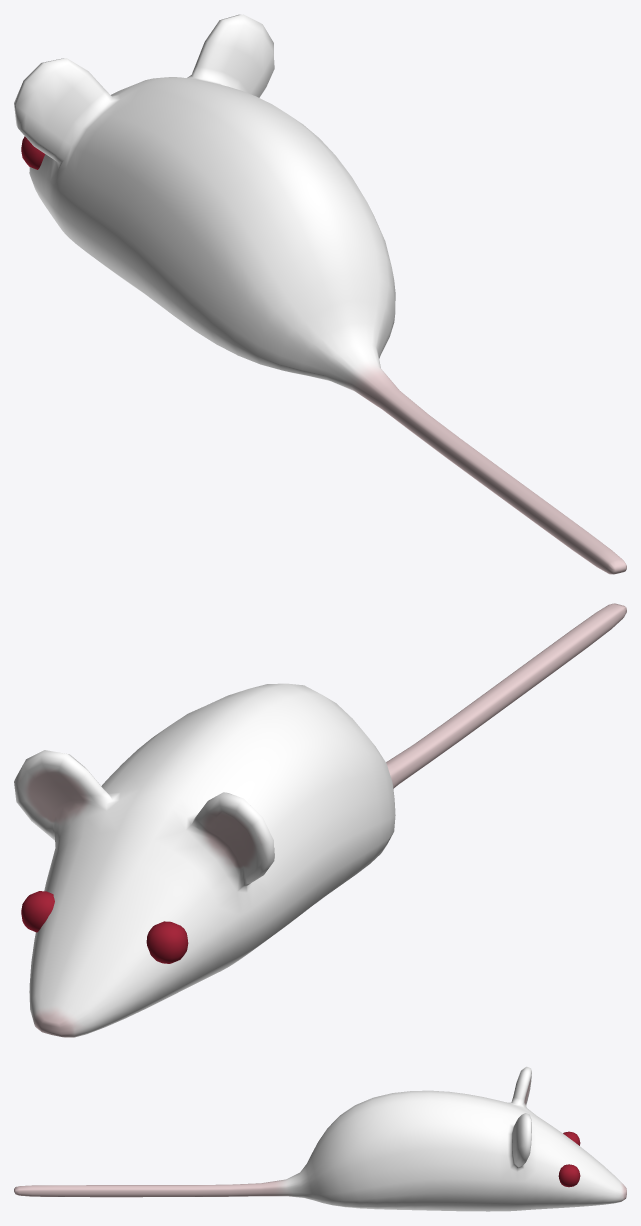
File: rato.glb
3 renders of one model, top to bottom at view 1: azimuth 30°, elevation 25°; view 2: azimuth 150°, elevation 25°; view 3: azimuth 270°, elevation 25°, orthographic. The views are drawn at different scales.
Parts seen in each view (by area): view 1: Rato.001; view 2: Rato.001; view 3: Rato.001.
Boxes of the visible parts, x1,y1,x2,y2 form: Rato.001: (14, 14, 626, 574); Rato.001: (14, 603, 626, 1037); Rato.001: (14, 1066, 626, 1211).
Bounding box in the file's own units: 0.8097 × 0.5915 × 3.1.
2 materials, 1 textured.
